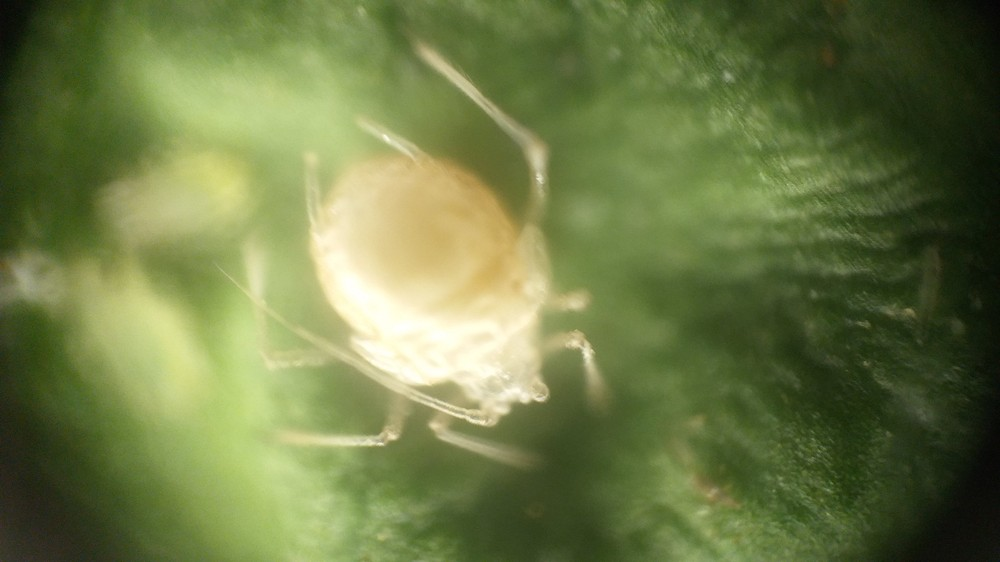Pulgon: (197, 44, 652, 488)
